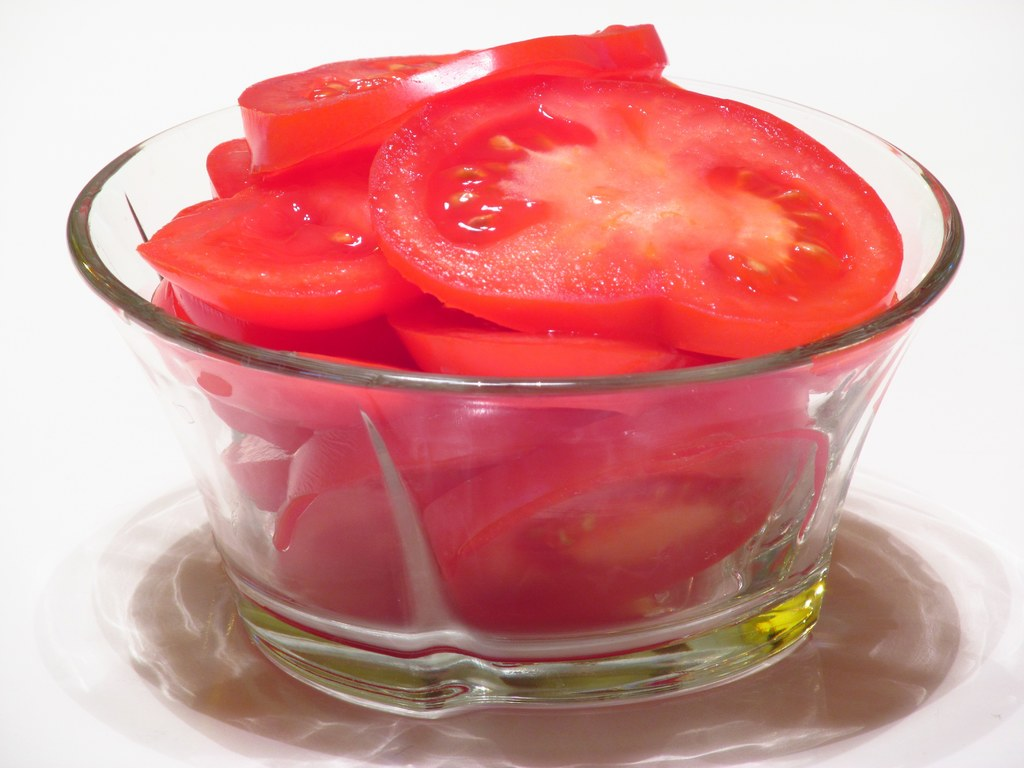Tomato: (134, 21, 917, 632)
